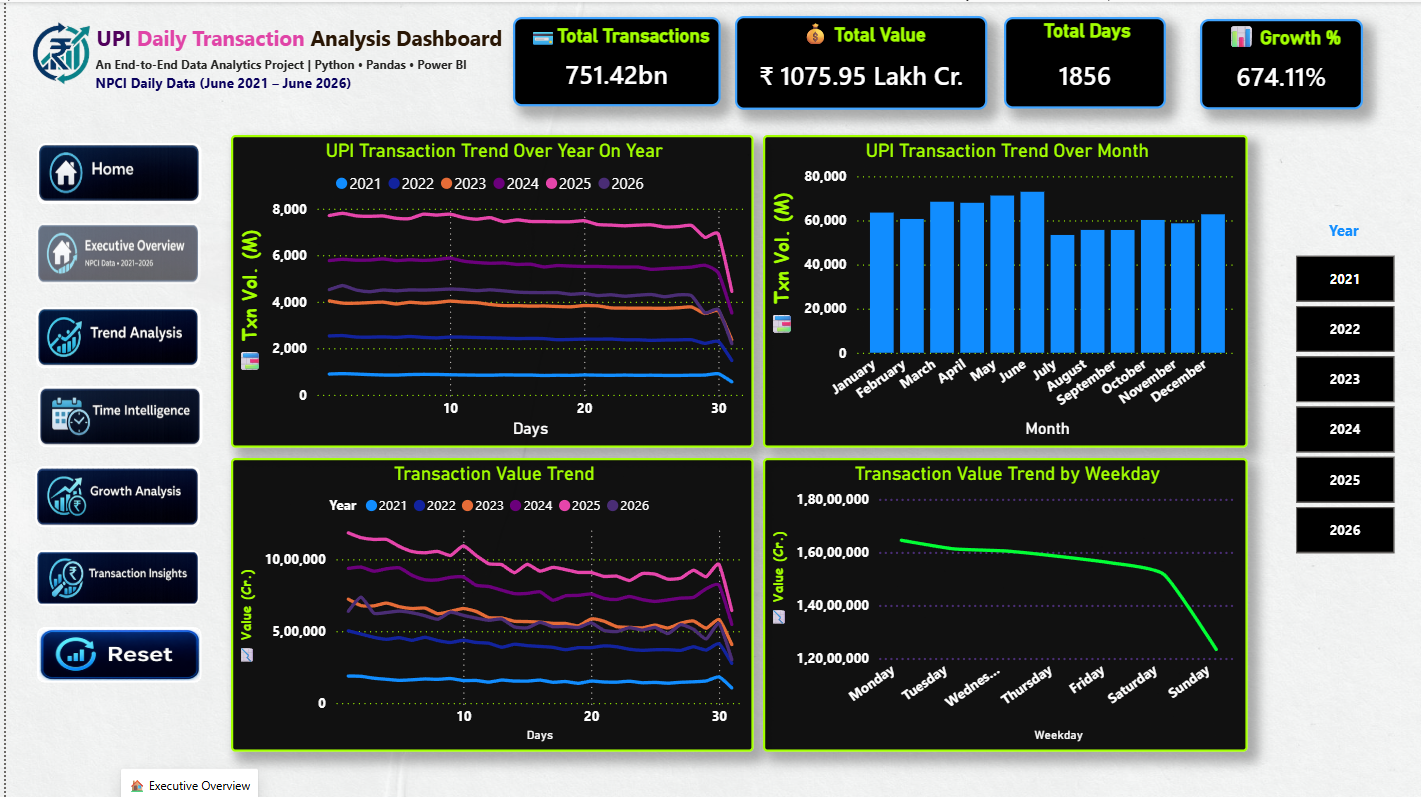

The dashboard page shown, as its layout file describes it:
{"tool":"powerbi","page":{"name":"🏠 Executive Overview","canvas":[1280,720],"ordinal":0},"visuals":[{"type":"group","id":"g1","title":"Group 1","box":[55.3,14.1,398.2,90],"z":0},{"type":"textbox","box":[55.3,14.1,398.2,53.7],"z":0,"group":"g1"},{"type":"image","box":[6.2,14.4,86,65.1],"z":1000},{"type":"textbox","box":[75,40.9,358.2,63.2],"z":1000,"group":"g1"},{"type":"actionButton","box":[27,198.2,147.5,55],"z":2000},{"type":"actionButton","box":[28.1,126.2,147.5,55],"z":3000},{"type":"actionButton","box":[26.5,273.5,147.5,55],"z":4000},{"type":"actionButton","box":[28.6,343.5,147.5,55],"z":5000},{"type":"actionButton","box":[26.1,490.4,147.5,50],"z":6000},{"type":"actionButton","box":[28.1,559.4,147.5,50],"z":7000},{"type":"actionButton","box":[25.7,415.4,148.1,55],"z":8000},{"type":"cardVisual","title":"💳Total Transactions","fields":{"Data":["UPI_Daily_Statistics_Clean.Total UPI Transactions"]},"box":[453.8,13.8,186.2,80],"z":10000},{"type":"cardVisual","title":"💰 Total Value","fields":{"Data":["UPI_Daily_Statistics_Clean.Total Transaction Value (Text)"]},"box":[652.5,12.5,226.2,83.8],"z":11000},{"type":"cardVisual","title":"📊 Growth %","fields":{"Data":["UPI_Daily_Statistics_Clean.Growth %"]},"box":[1069,14.8,146.3,80.6],"z":12000},{"type":"lineChart","title":"UPI Transaction Trend Over Year On Year","fields":{"Series":["UPI_Daily_Statistics_Clean.Year"],"Category":["UPI_Daily_Statistics_Clean.Day"],"Y":["Sum(UPI_Daily_Statistics_Clean.Volume_Million)"]},"box":[201.2,118.8,467.5,280],"z":13000},{"type":"areaChart","title":"Transaction Value Trend","fields":{"Category":["UPI_Daily_Statistics_Clean.Date.Variation.Date Hierarchy.Day"],"Y":["Sum(UPI_Daily_Statistics_Clean.Value_Crore)"],"Series":["UPI_Daily_Statistics_Clean.Date.Variation.Date Hierarchy.Year"]},"box":[201.2,408.8,467.5,262.5],"z":14000},{"type":"clusteredColumnChart","title":"UPI Transaction Trend Over Month","fields":{"Category":["UPI_Daily_Statistics_Clean.Date.Variation.Date Hierarchy.Month"],"Y":["Sum(UPI_Daily_Statistics_Clean.Volume_Million)"]},"box":[677.5,118.8,433.8,280],"z":15000},{"type":"stackedAreaChart","title":"Transaction Value Trend by Weekday","fields":{"Y":["Sum(UPI_Daily_Statistics_Clean.Value_Crore)"],"Category":["UPI_Daily_Statistics_Clean.Weekday"]},"box":[677.5,408.8,433.8,262.5],"z":16000},{"type":"slicer","fields":{"Values":["UPI_Daily_Statistics_Clean.Date.Variation.Date Hierarchy.Year"]},"box":[1129.4,220.6,137.8,279.6],"z":17000},{"type":"textbox","box":[1169.7,191,57.1,34.5],"z":20000},{"type":"cardVisual","title":"Total Days","fields":{"Data":["CountNonNull(UPI_Daily_Statistics_Clean.Day)"]},"box":[894,13.8,145.3,81.7],"z":21000}]}

Visuals, with their boxes in screenshot pixels (x1, y1, x2, y2), scaled from the page's 1280x720 canvas onto the 1421x797 screenshot:
"Group 1" group: (61, 16, 503, 115)
textbox: (61, 16, 503, 75)
image: (7, 16, 102, 88)
textbox: (83, 45, 481, 115)
actionButton: (30, 219, 194, 280)
actionButton: (31, 140, 195, 201)
actionButton: (29, 303, 193, 364)
actionButton: (32, 380, 195, 441)
actionButton: (29, 543, 193, 598)
actionButton: (31, 619, 195, 675)
actionButton: (29, 460, 193, 521)
"💳Total Transactions" cardVisual: (504, 15, 710, 104)
"💰 Total Value" cardVisual: (724, 14, 975, 107)
"📊 Growth %" cardVisual: (1187, 16, 1349, 106)
"UPI Transaction Trend Over Year On Year" lineChart: (223, 132, 742, 441)
"Transaction Value Trend" areaChart: (223, 453, 742, 743)
"UPI Transaction Trend Over Month" clusteredColumnChart: (752, 132, 1234, 441)
"Transaction Value Trend by Weekday" stackedAreaChart: (752, 453, 1234, 743)
slicer - UPI_Daily_Statistics_Clean.Date.Variation.Date Hierarchy.Year: (1254, 244, 1407, 554)
textbox: (1299, 211, 1362, 250)
"Total Days" cardVisual: (992, 15, 1154, 106)
